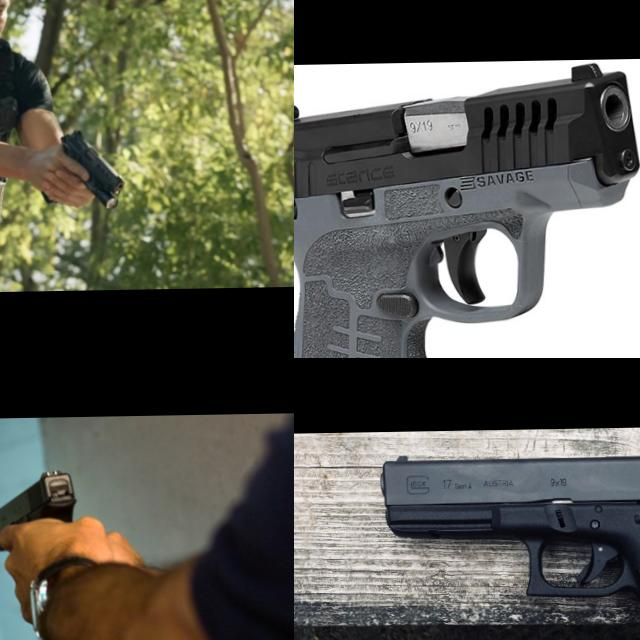handgun: (294, 58, 640, 358), (374, 441, 640, 640), (0, 465, 84, 556), (57, 126, 126, 214)
